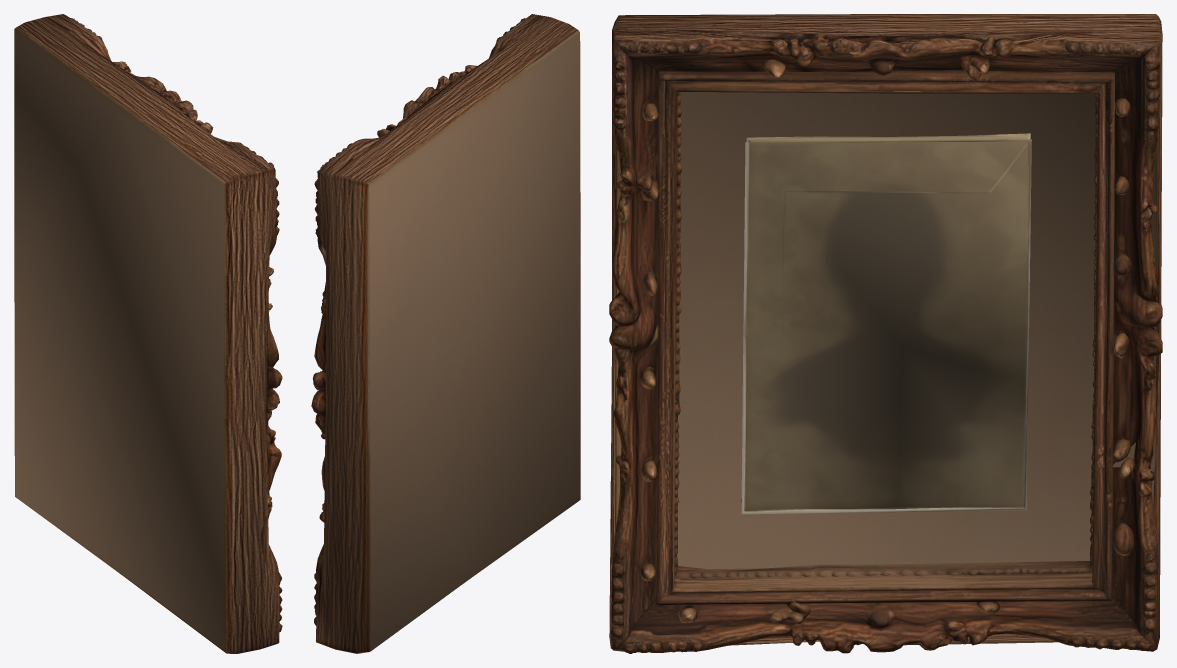
3 renders of one model, left to right at view 1: azimuth 30°, elevation 25°; view 2: azimuth 150°, elevation 25°; view 3: azimuth 270°, elevation 25°, orthographic. The views are drawn at different scales.
Parts seen in each view (by area): view 1: tripo_node_f13d466e-39aa-4247-b0ff-5d21da86790f; view 2: tripo_node_f13d466e-39aa-4247-b0ff-5d21da86790f; view 3: tripo_node_f13d466e-39aa-4247-b0ff-5d21da86790f.
Boxes of the visible parts, bbox=[...] form: tripo_node_f13d466e-39aa-4247-b0ff-5d21da86790f: bbox=[14, 14, 282, 653]; tripo_node_f13d466e-39aa-4247-b0ff-5d21da86790f: bbox=[311, 14, 580, 653]; tripo_node_f13d466e-39aa-4247-b0ff-5d21da86790f: bbox=[609, 14, 1162, 653].
Bounding box in the file's own units: 0.127 × 0.998 × 0.8184.
Materials: 1 (1 with a texture image).
